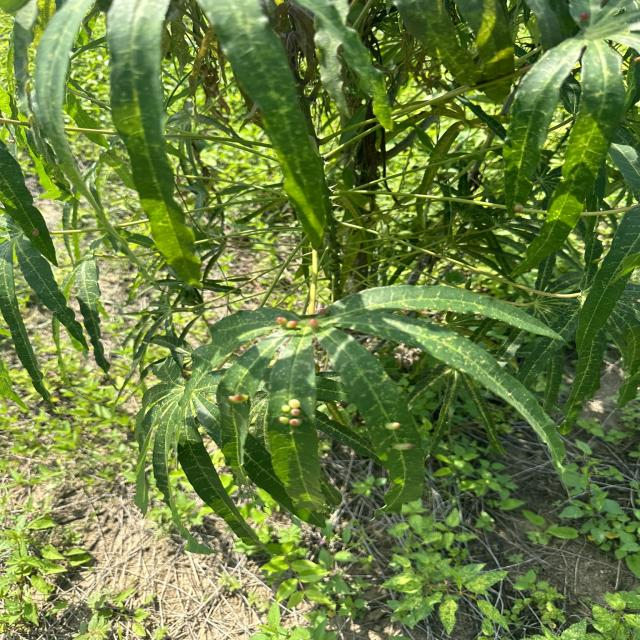Mosca: (380, 412, 423, 465), (267, 305, 325, 342), (271, 394, 307, 434), (218, 383, 248, 421)
